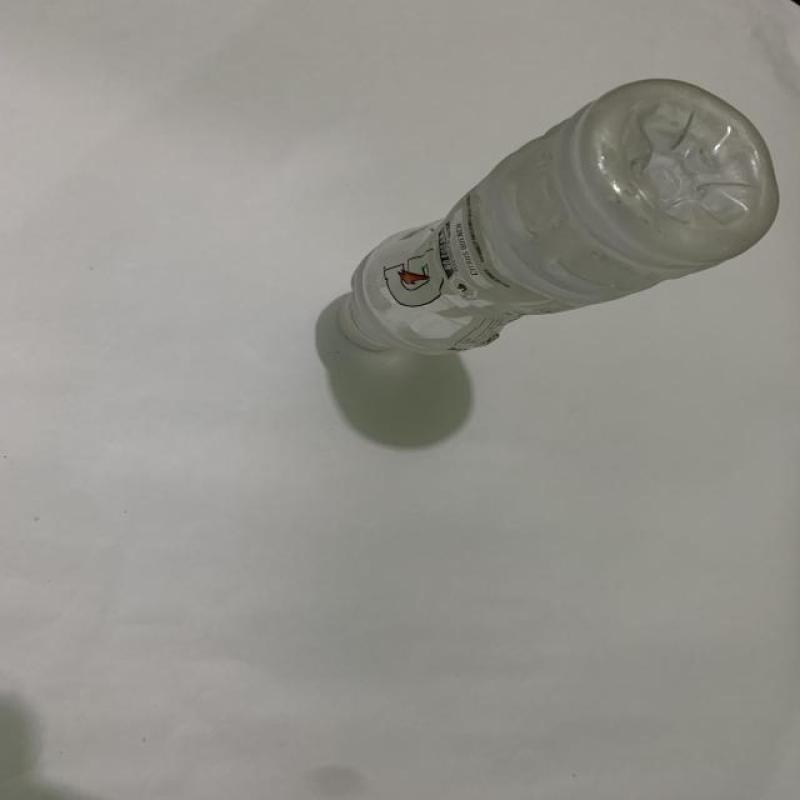botella: (347, 78, 779, 353)
